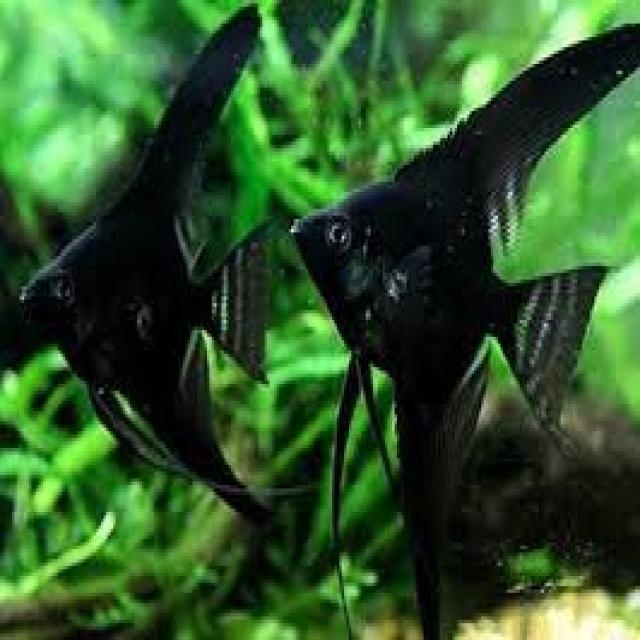AngelFish: (285, 24, 640, 638), (17, 8, 274, 544)
